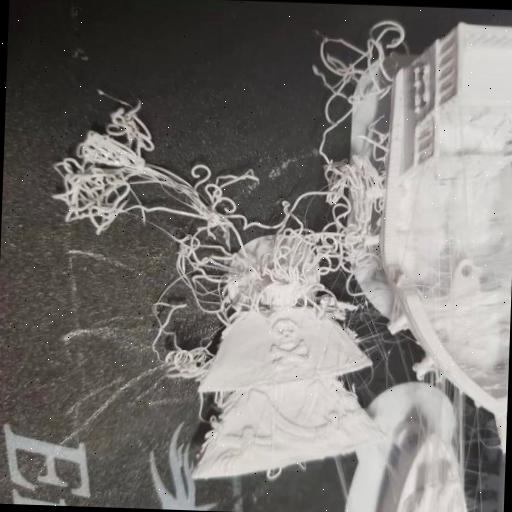spaghetti: (58, 118, 148, 228), (317, 18, 394, 110), (180, 168, 242, 258), (324, 166, 372, 262), (267, 232, 325, 290), (188, 244, 242, 302)
